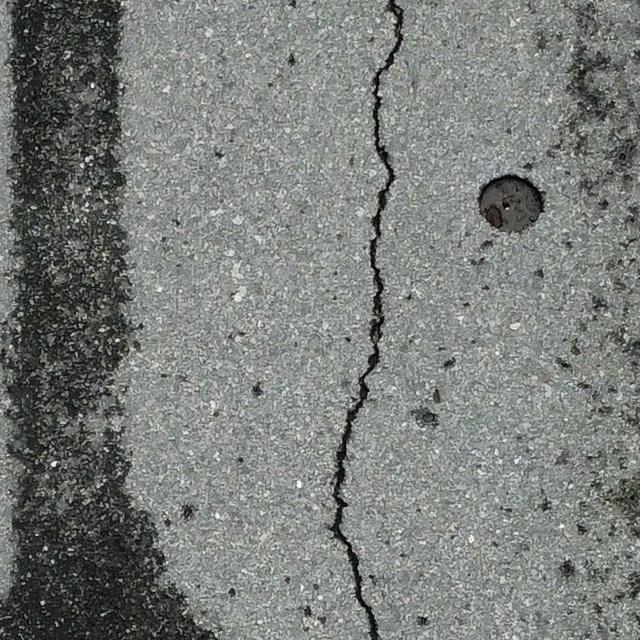LongitudinalCrack: (326, 1, 406, 640)
